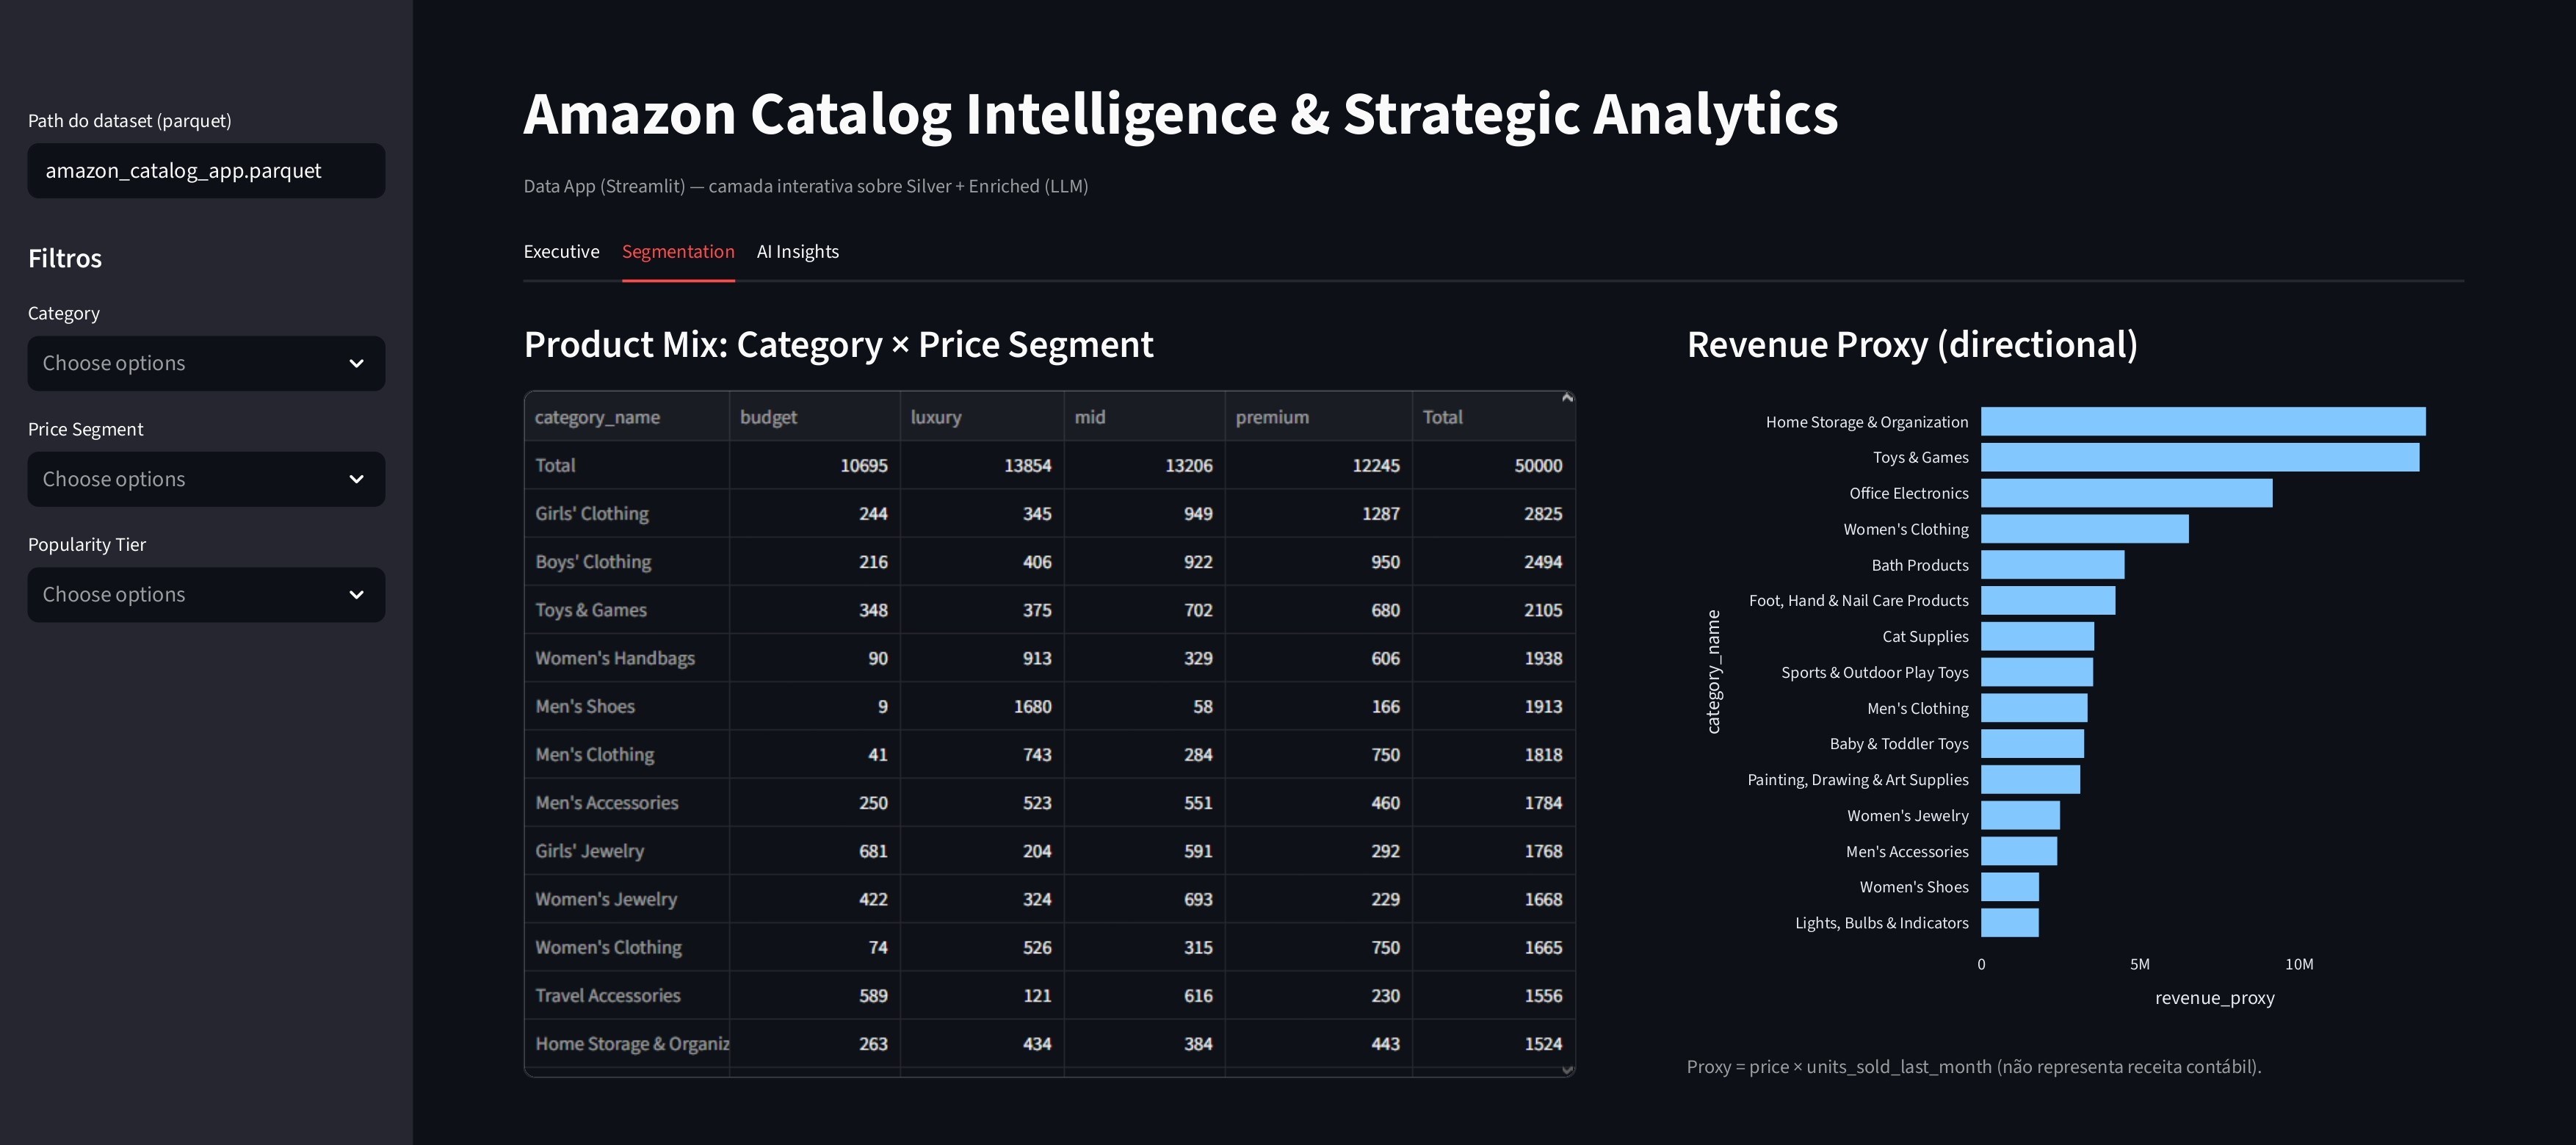

The dashboard page shown, as its layout file describes it:
{"tool":"powerbi","page":{"name":"Market Segmentation","canvas":[1280,720],"ordinal":1},"visuals":[{"type":"pivotTable","title":"Product Mix by Category and Price Segment","fields":{"Rows":["dash_category_segment_tier.category_name"],"Columns":["dim_segment.price_segment"],"Values":["Medidas.Product (Selected Scope)"]},"box":[380,120.3,545,590],"z":0},{"type":"cardVisual","fields":{"Data":["Medidas.Segmento Dominante","Medidas.Tier Dominante"]},"box":[1055,10,215,100],"z":1000},{"type":"cardVisual","fields":{"Data":["Medidas.Preço Médio (recorte)"]},"box":[605,10,215,100],"z":2000},{"type":"cardVisual","fields":{"Data":["Medidas.Avaliação Média (recorte)"]},"box":[830,10,215,100],"z":3000},{"type":"textbox","box":[10,10,360,100],"z":4000},{"type":"columnChart","title":"Popularity Tier Mix (Top Categories)","fields":{"Category":["dash_category_segment_tier.category_name"],"Series":["dim_tier.popularity_tier"],"Y":["Sum(dash_category_segment_tier.products)"]},"box":[10,390.5,360,320],"z":5000},{"type":"slicer","fields":{"Values":["dim_segment.price_segment"]},"box":[10,210.1,360,80],"z":6000},{"type":"slicer","fields":{"Values":["dim_tier.popularity_tier"]},"box":[10,300,360,80],"z":7000},{"type":"scatterChart","title":"Segment Positioning: Price vs Rating","fields":{"X":["Medidas.Preço Médio (recorte)"],"Y":["Medidas.Avaliação Média (recorte)"],"Series":["dim_segment.price_segment"]},"box":[935,410,335,300],"z":8000},{"type":"slicer","fields":{"Values":["dash_category_segment_tier.category_name"]},"box":[10,120,360,80],"z":9000},{"type":"cardVisual","fields":{"Data":["Medidas.Revenue Proxy"]},"box":[380,10,215,100.5],"z":10000},{"type":"slicer","fields":{"Values":["average_or_revenue.average_or_revenue"]},"box":[935,120.3,335,50],"z":11000},{"type":"clusteredColumnChart","fields":{"Y":["Medidas.Average Price (Selected Scope)"],"Category":["dim_segment.price_segment"]},"box":[935,170,335.8,230],"z":12000}]}

Visuals, with their boxes on the page's 1280x720 design canvas (x1, y1, x2, y2). These are canvas units, not pixel positions in the 2576x1145 screenshot, which may show the page scaled, cropped or inside an application window:
"Product Mix by Category and Price Segment" pivotTable: bbox=(380, 120, 925, 710)
cardVisual - Medidas.Segmento Dominante x Medidas.Tier Dominante: bbox=(1055, 10, 1270, 110)
cardVisual - Medidas.Preço Médio (recorte): bbox=(605, 10, 820, 110)
cardVisual - Medidas.Avaliação Média (recorte): bbox=(830, 10, 1045, 110)
textbox: bbox=(10, 10, 370, 110)
"Popularity Tier Mix (Top Categories)" columnChart: bbox=(10, 390, 370, 710)
slicer - dim_segment.price_segment: bbox=(10, 210, 370, 290)
slicer - dim_tier.popularity_tier: bbox=(10, 300, 370, 380)
"Segment Positioning: Price vs Rating" scatterChart: bbox=(935, 410, 1270, 710)
slicer - dash_category_segment_tier.category_name: bbox=(10, 120, 370, 200)
cardVisual - Medidas.Revenue Proxy: bbox=(380, 10, 595, 110)
slicer - average_or_revenue.average_or_revenue: bbox=(935, 120, 1270, 170)
clusteredColumnChart - Medidas.Average Price (Selected Scope) x dim_segment.price_segment: bbox=(935, 170, 1271, 400)
